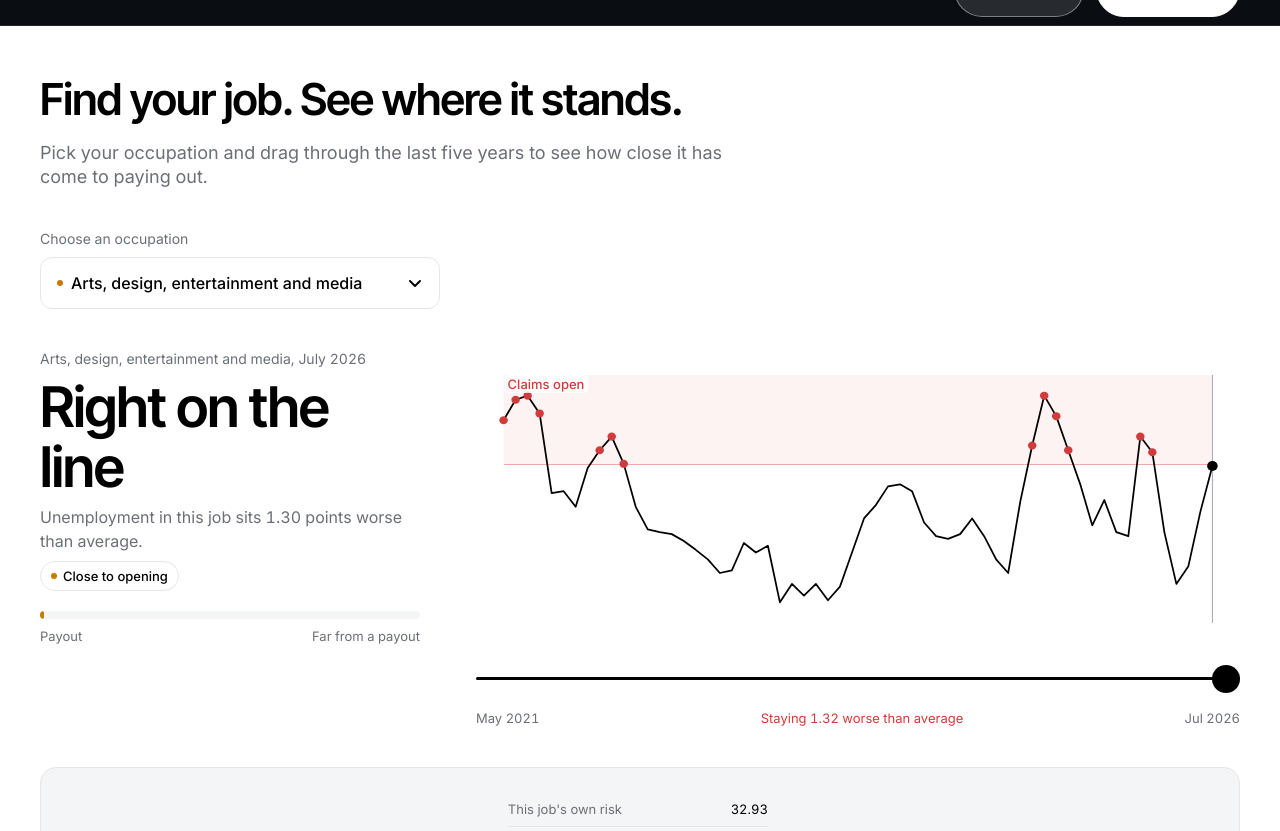
Test: the price block › says an occupation with no capacity cannot be bought rather than pricing it
Click the button: (240, 283) [40, 257, 440, 309]
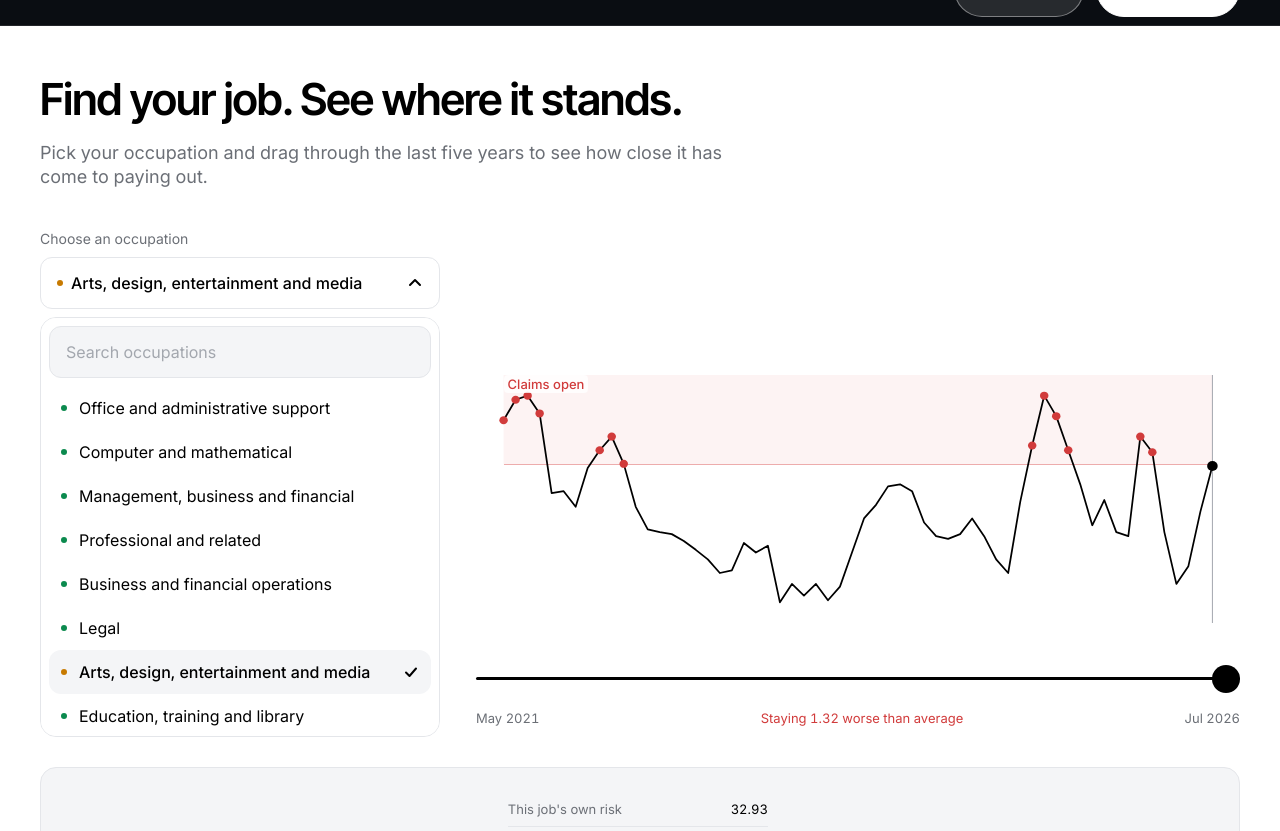
Click the button "Legal": (100, 628) [49, 606, 431, 650]
(page scrolled)
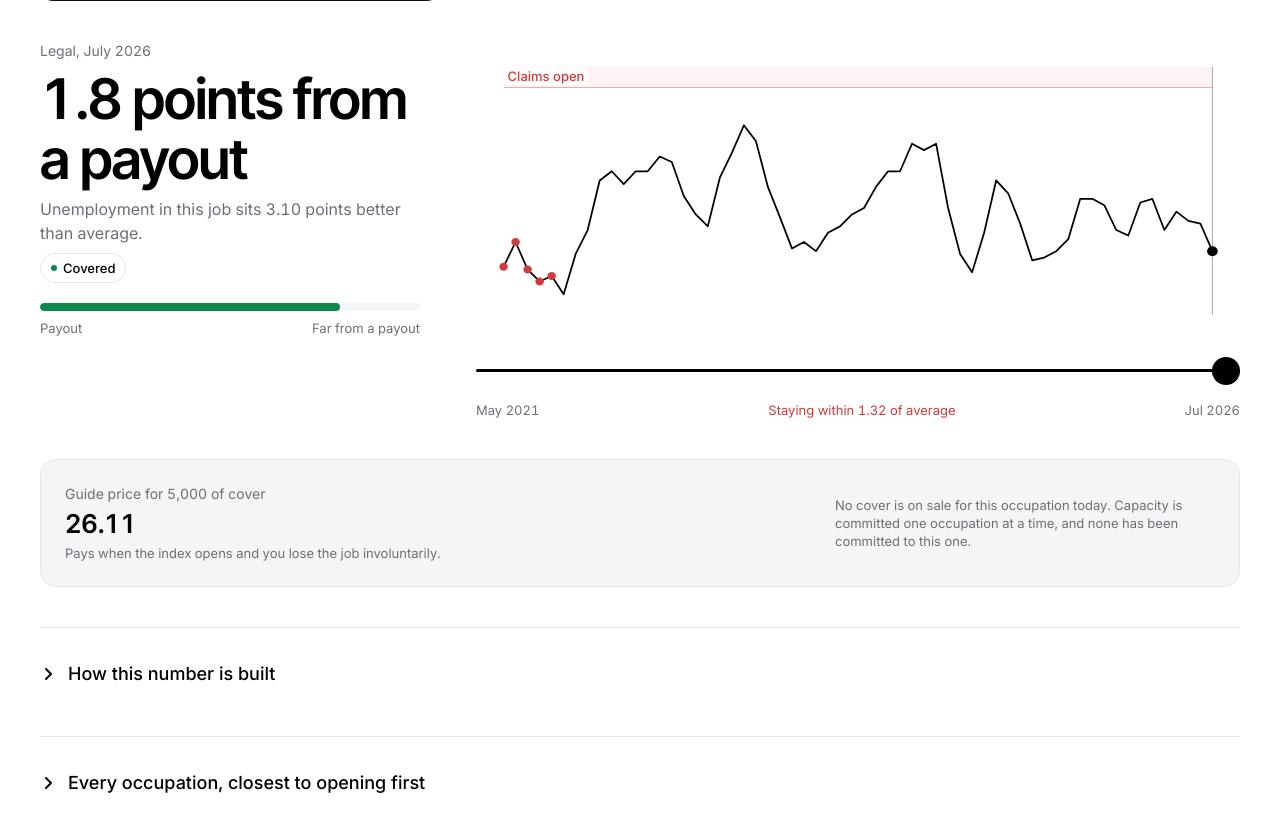
Check: the text "Guide price for 5,000 of cover" is shown, box [65, 485, 265, 502]
Check: the text "No cover is on sale for this occupation today. Capacity is committed one occupation at a time, and none has been committ" is shown, box [835, 497, 1182, 549]
